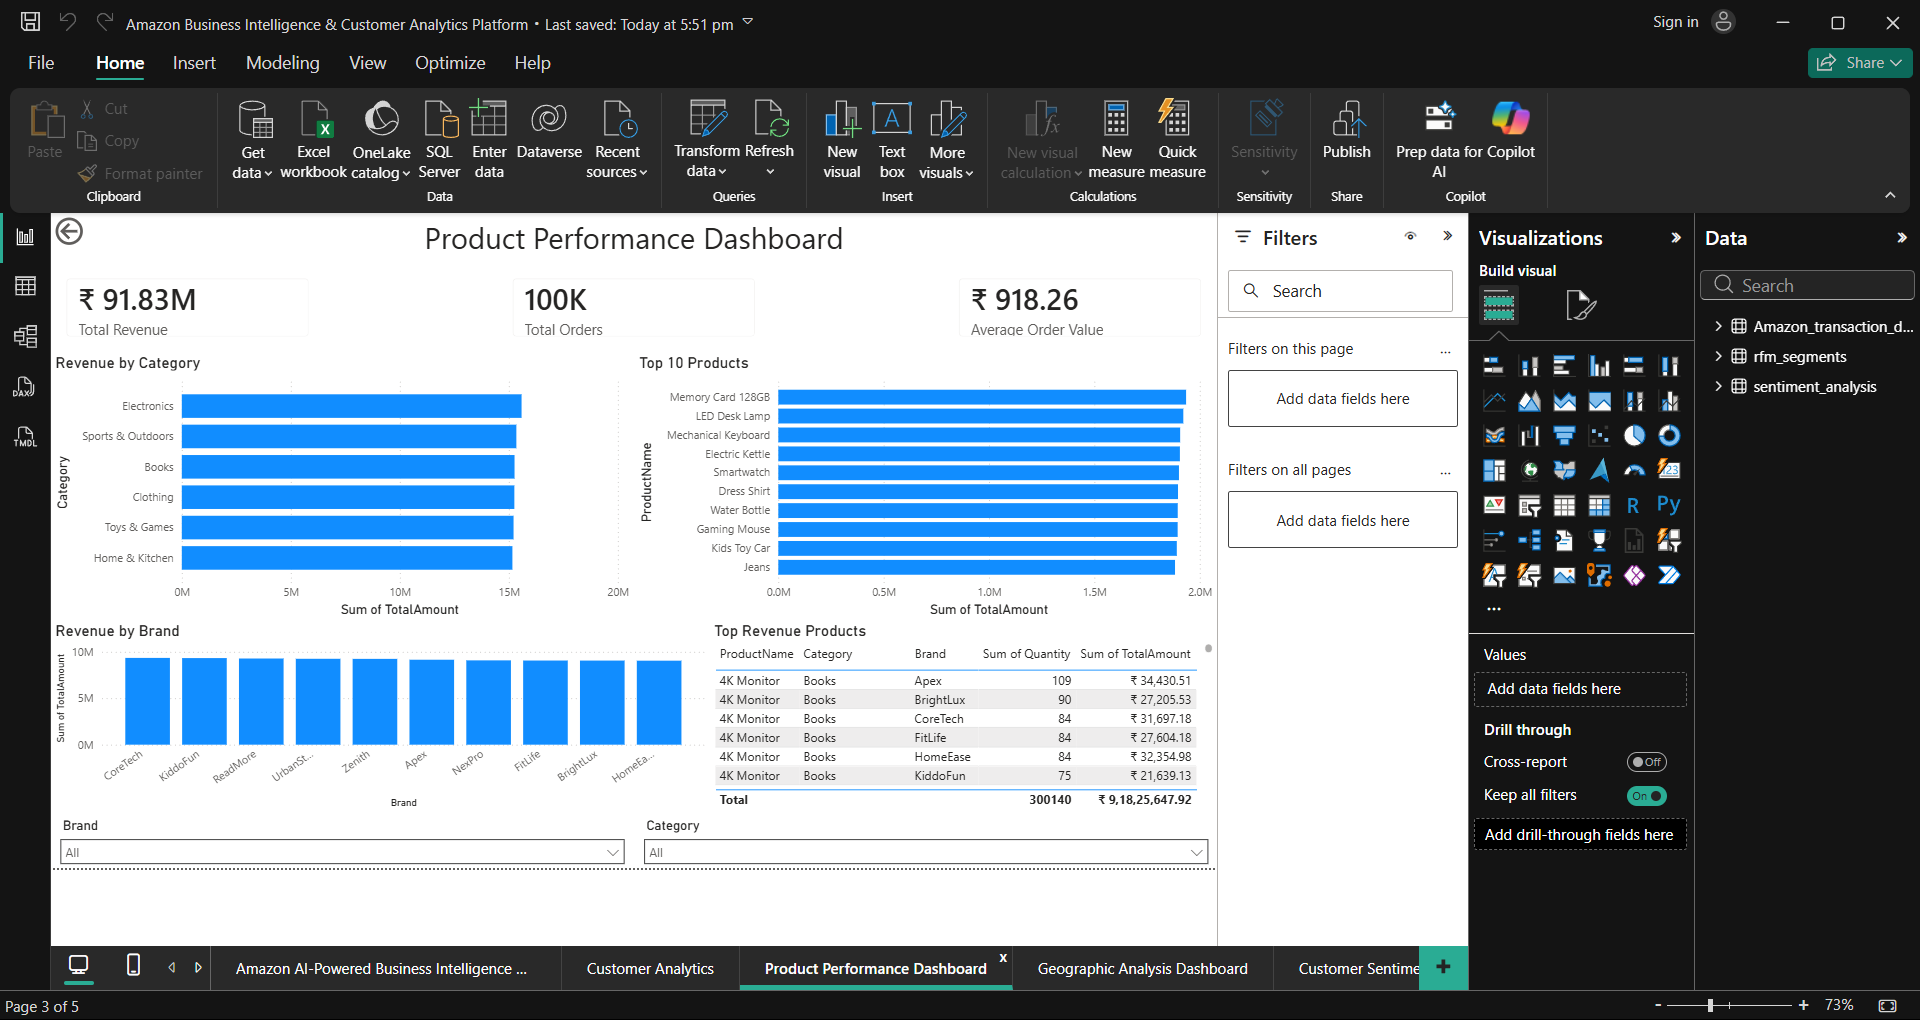

What the dashboard file says about the page in this screenshot:
{"tool":"powerbi","page":{"name":"Product Performance Dashboard","canvas":[1280,720],"ordinal":2},"visuals":[{"type":"textbox","box":[0,0,1280.3,54.9],"z":0},{"type":"cardVisual","fields":{"Data":["Sum(Amazon_transaction_data.TotalAmount)"]},"box":[0,54.9,300.5,98.8],"z":1000},{"type":"cardVisual","fields":{"Data":["CountNonNull(Amazon_transaction_data.CustomerID)"]},"box":[489.9,54.9,300.5,98.8],"z":2000},{"type":"cardVisual","fields":{"Data":["Amazon_transaction_data.Average Order Value"]},"box":[979.5,54.9,300.5,98.8],"z":3000},{"type":"clusteredBarChart","title":"Revenue by Category","fields":{"Category":["Amazon_transaction_data.Category"],"Y":["Sum(Amazon_transaction_data.TotalAmount)"]},"box":[0,153.7,639.5,295],"z":4000},{"type":"clusteredBarChart","title":"Top 10 Products","fields":{"Category":["Amazon_transaction_data.ProductName"],"Y":["Sum(Amazon_transaction_data.TotalAmount)"]},"box":[640.8,153.7,639.5,295],"z":5000},{"type":"clusteredColumnChart","title":"Revenue by Brand","fields":{"Y":["Sum(Amazon_transaction_data.TotalAmount)"],"Category":["Amazon_transaction_data.Brand"]},"box":[0,448.7,723.2,209.9],"z":6000},{"type":"tableEx","title":"Top Revenue Products","fields":{"Values":["Amazon_transaction_data.ProductName","Amazon_transaction_data.Category","Amazon_transaction_data.Brand","Sum(Amazon_transaction_data.Quantity)","Sum(Amazon_transaction_data.TotalAmount)"]},"box":[723.2,448.7,557.1,209.9],"z":7000},{"type":"actionButton","box":[0,0,100,40],"z":8000},{"type":"slicer","fields":{"Values":["Amazon_transaction_data.Category"]},"box":[640.8,658.7,639.5,61.7],"z":9000},{"type":"slicer","fields":{"Values":["Amazon_transaction_data.Brand"]},"box":[0,658.7,639.5,61.7],"z":10000}]}

Visuals, with their boxes on the page's 1280x720 design canvas (x1, y1, x2, y2). These are canvas units, not pixel positions in the 1920x1020 screenshot, which may show the page scaled, cropped or inside an application window:
textbox: {"left": 0, "top": 0, "right": 1280, "bottom": 55}
cardVisual - Sum(Amazon_transaction_data.TotalAmount): {"left": 0, "top": 55, "right": 300, "bottom": 154}
cardVisual - CountNonNull(Amazon_transaction_data.CustomerID): {"left": 490, "top": 55, "right": 790, "bottom": 154}
cardVisual - Amazon_transaction_data.Average Order Value: {"left": 980, "top": 55, "right": 1280, "bottom": 154}
"Revenue by Category" clusteredBarChart: {"left": 0, "top": 154, "right": 640, "bottom": 449}
"Top 10 Products" clusteredBarChart: {"left": 641, "top": 154, "right": 1280, "bottom": 449}
"Revenue by Brand" clusteredColumnChart: {"left": 0, "top": 449, "right": 723, "bottom": 659}
"Top Revenue Products" tableEx: {"left": 723, "top": 449, "right": 1280, "bottom": 659}
actionButton: {"left": 0, "top": 0, "right": 100, "bottom": 40}
slicer - Amazon_transaction_data.Category: {"left": 641, "top": 659, "right": 1280, "bottom": 720}
slicer - Amazon_transaction_data.Brand: {"left": 0, "top": 659, "right": 640, "bottom": 720}
